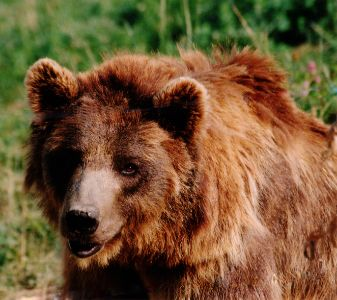bear: (21, 43, 332, 297)
